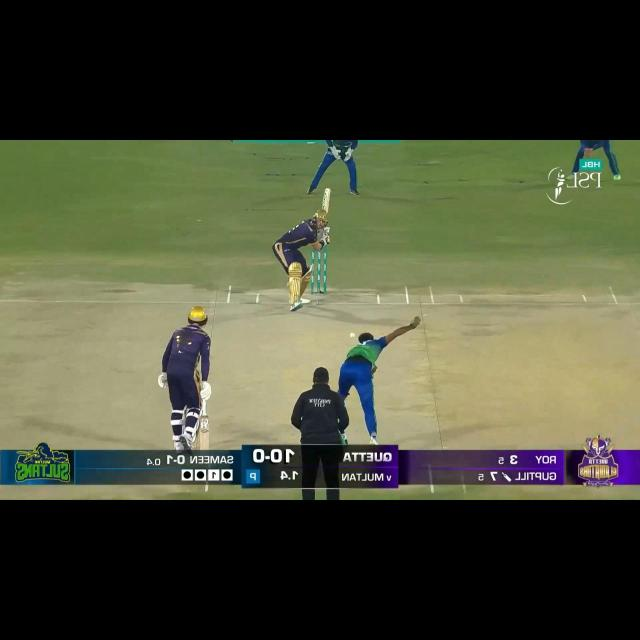bat: (321, 187, 332, 221), (200, 416, 210, 451)
toe: (320, 185, 333, 197)
